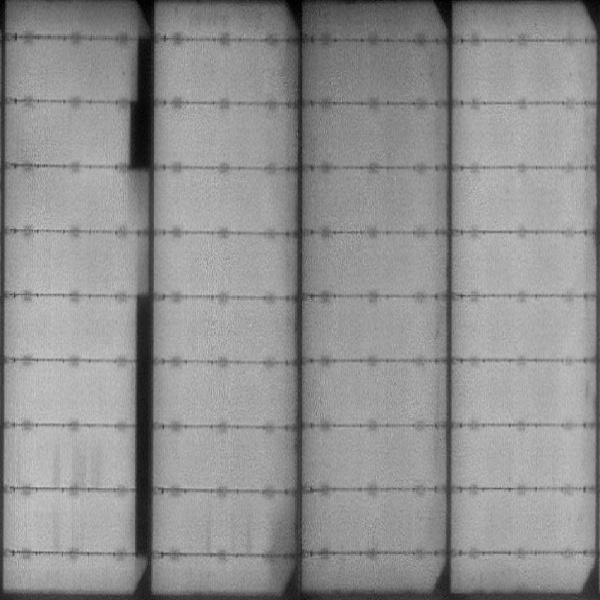black_border: (132, 294, 153, 552), (125, 99, 157, 175), (133, 28, 161, 97)
